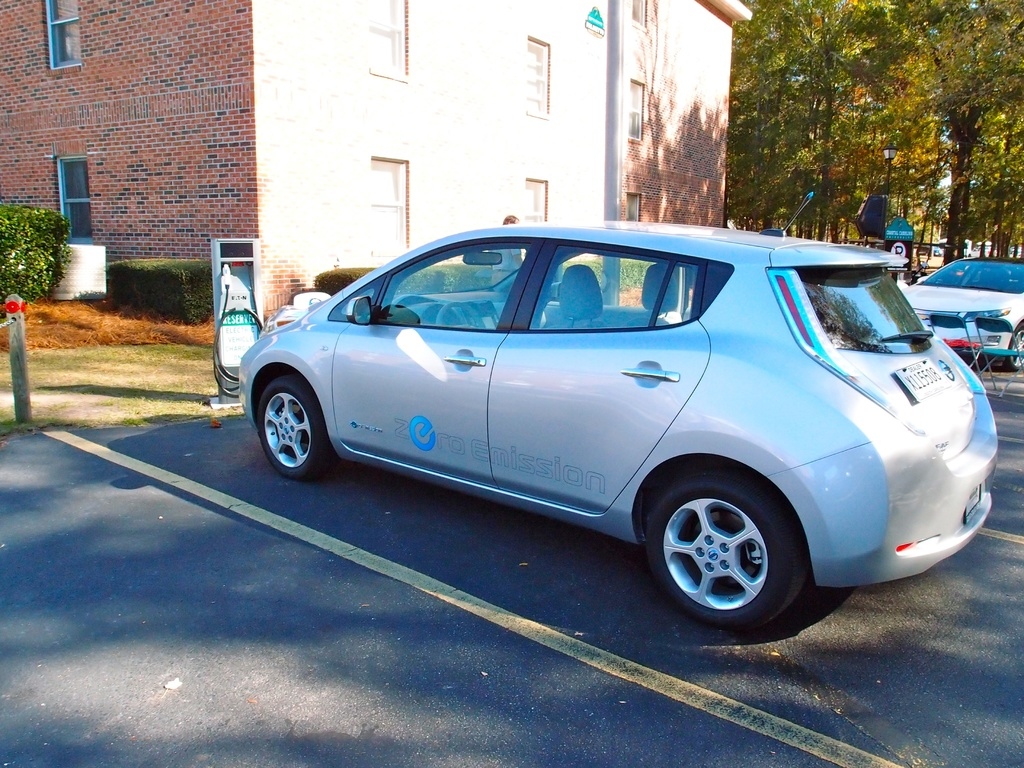Car: (231, 218, 1000, 636), (898, 255, 1023, 372)
